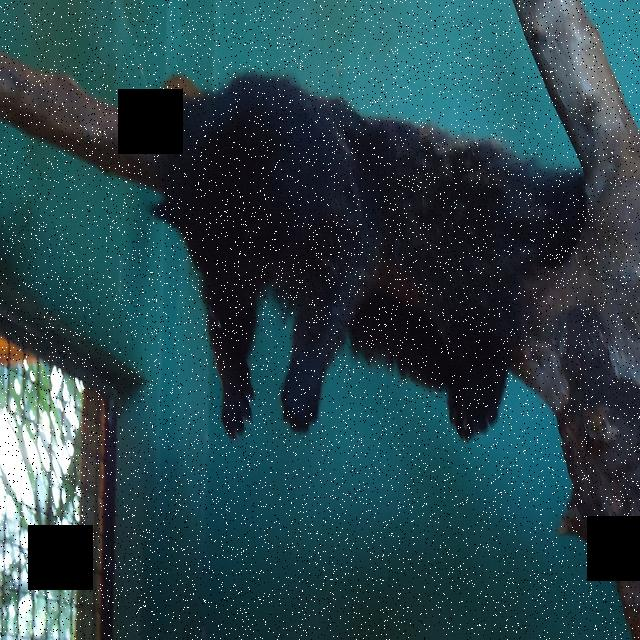Bear: (148, 63, 566, 474)
